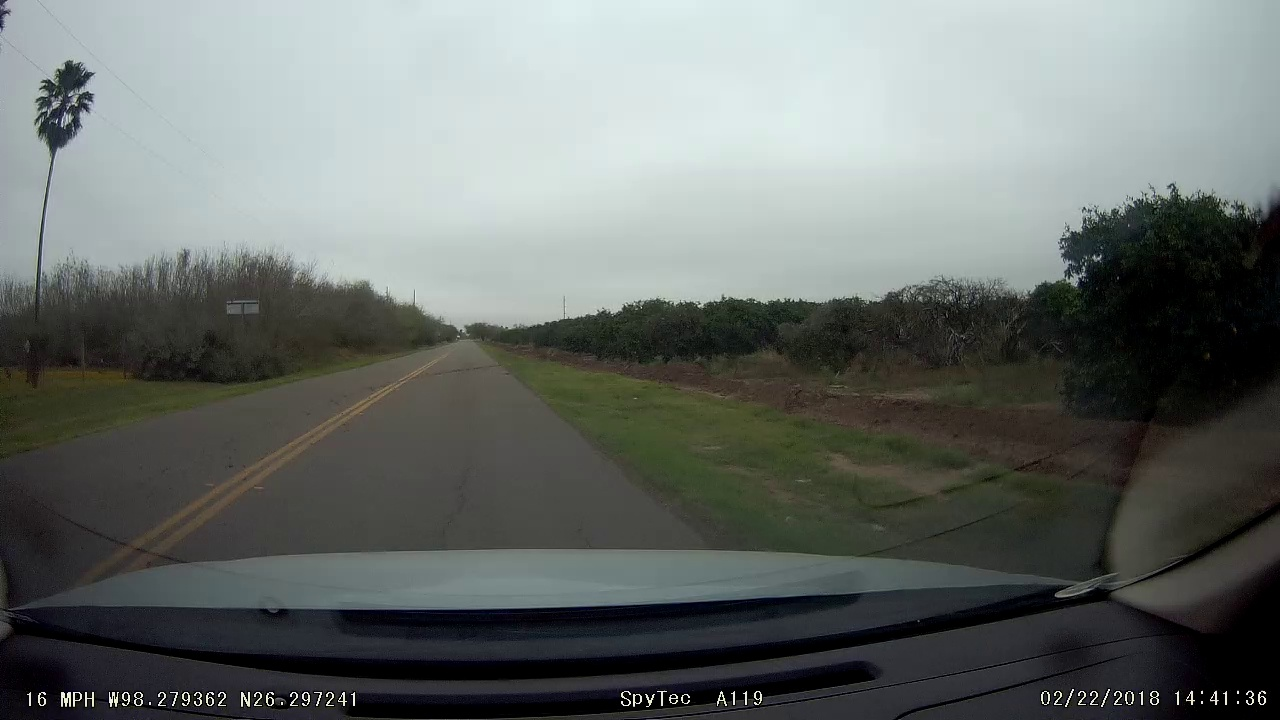crack: (434, 451, 485, 537)
